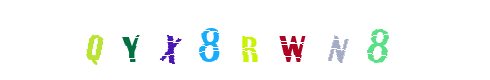8: (169, 0, 249, 80), (329, 0, 409, 80)
N: (259, 0, 339, 80)
Q: (90, 0, 170, 80)
R: (205, 0, 285, 80)
W: (252, 0, 332, 80)
X: (131, 0, 211, 80)
Y: (130, 0, 210, 80)
